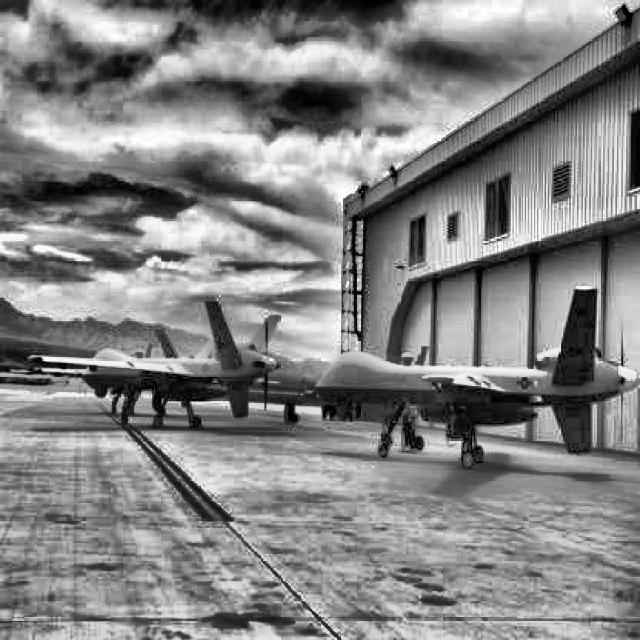MQ9: (314, 285, 640, 470), (28, 298, 282, 428), (32, 327, 280, 416)
